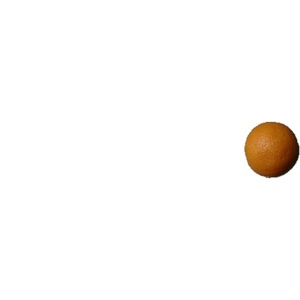laranja: (241, 120, 297, 180)
